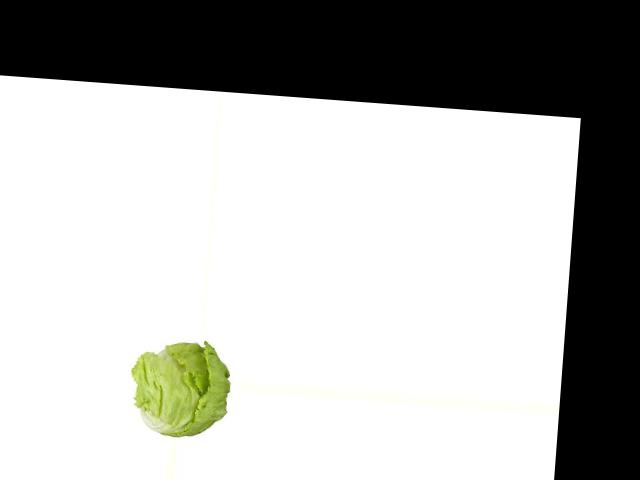lettuce: (130, 338, 232, 443)
